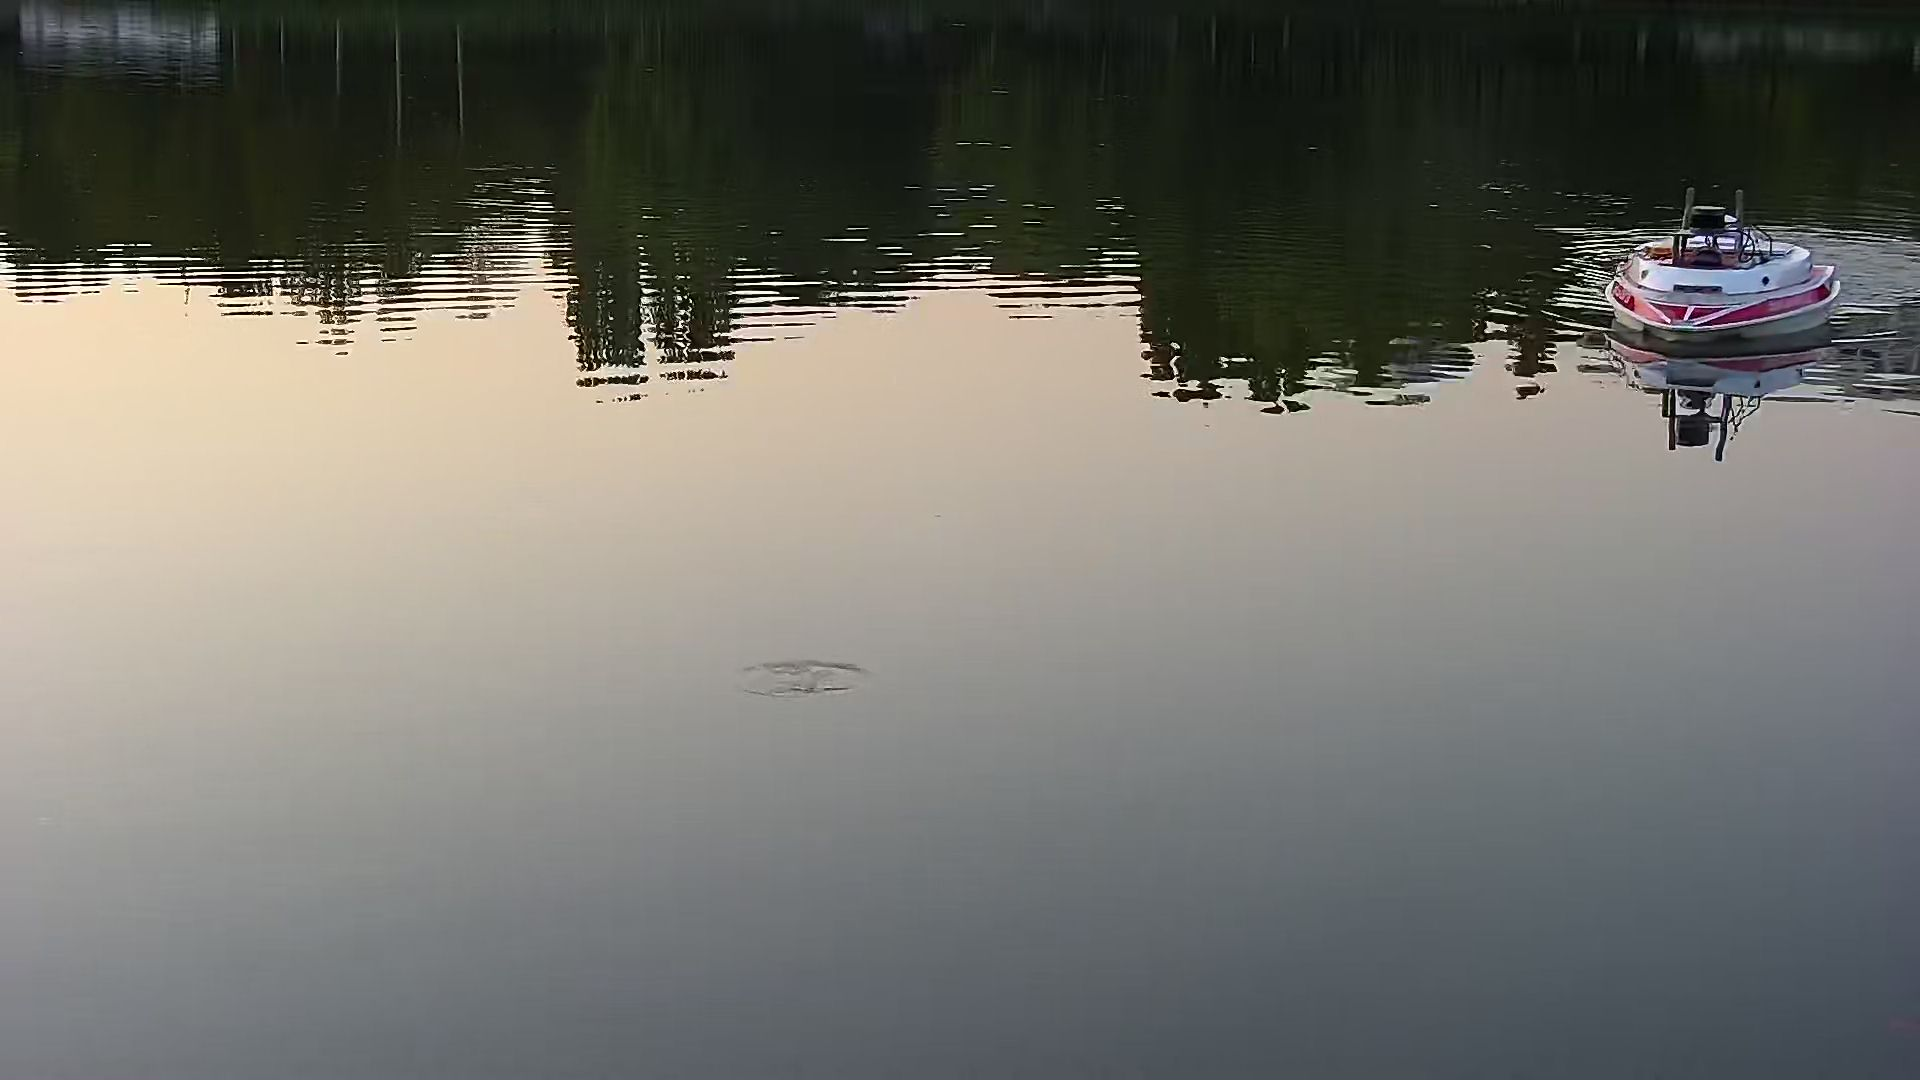boat: (1602, 182, 1838, 375)
